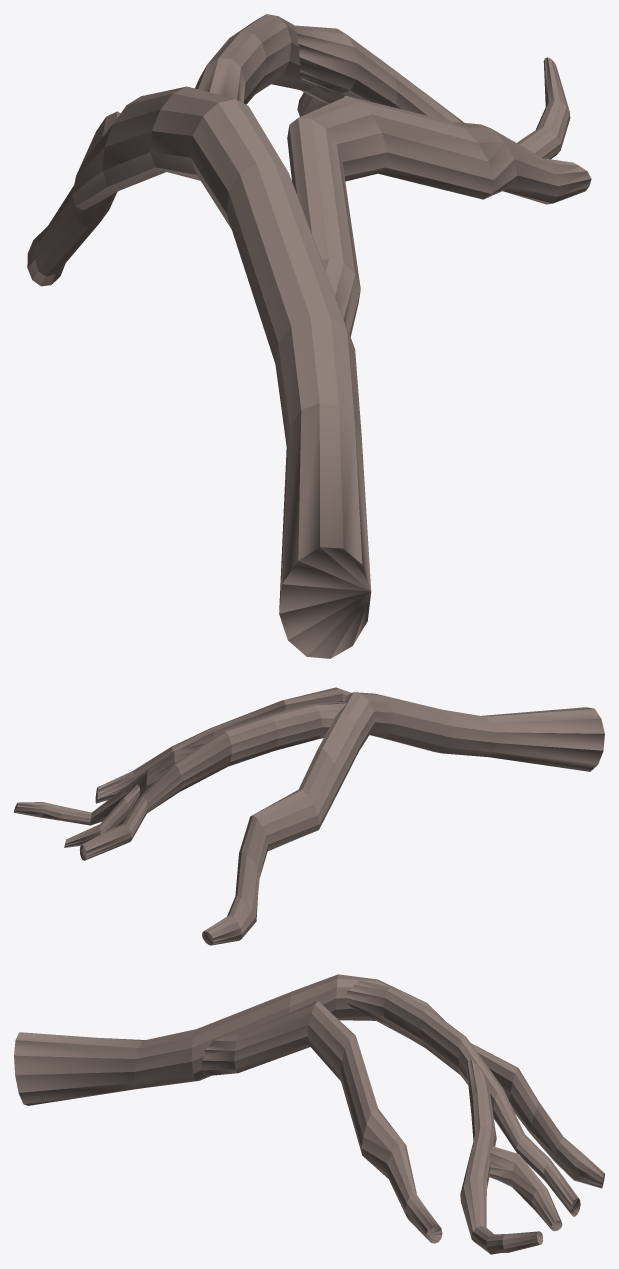
The model's file is mttops_root_1.glb.
The picture shows the model from 3 angles, top to bottom: view 1: azimuth 30°, elevation 25°; view 2: azimuth 150°, elevation 25°; view 3: azimuth 270°, elevation 25°; orthographic projection. The views are drawn at different scales.
Visible parts, largest first — view 1: Line002.096; view 2: Line002.096; view 3: Line002.096.
Boxes of the visible parts, x1,y1,x2,y2 form: Line002.096: (27,14,591,658); Line002.096: (14,687,604,945); Line002.096: (14,974,604,1254).
Bounding box in the file's own units: 0.4617 × 0.21 × 0.5778.
